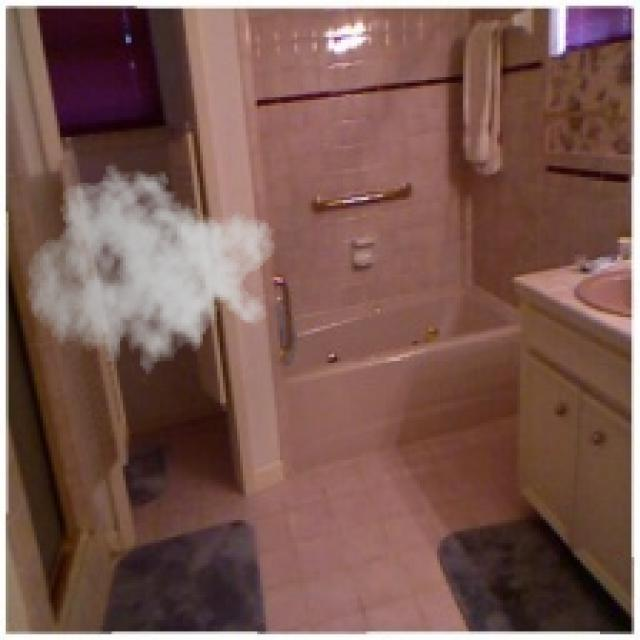Smoke: (26, 157, 278, 386)
